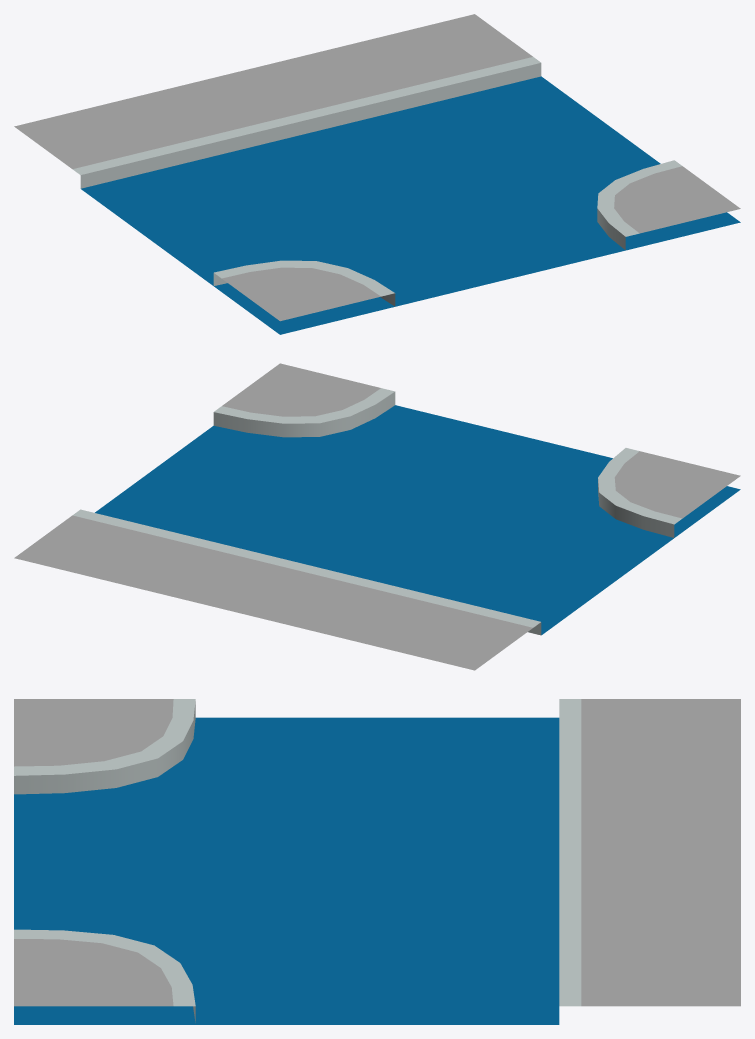
The model's file is T_Intersection_Narrow.fbx.
3 views of the same model, one above another, from view 1: azimuth 30°, elevation 25°; view 2: azimuth 150°, elevation 25°; view 3: azimuth 270°, elevation 25° (orthographic). The views are drawn at different scales.
Parts seen in each view (by area): view 1: T_Intersection_Narrow; view 2: T_Intersection_Narrow; view 3: T_Intersection_Narrow.
Boxes of the visible parts, bbox=[...] form: T_Intersection_Narrow: bbox=[14, 14, 740, 334]; T_Intersection_Narrow: bbox=[14, 363, 740, 670]; T_Intersection_Narrow: bbox=[14, 699, 740, 1024].
Bounding box in the file's own units: 800 × 22.59 × 800.
